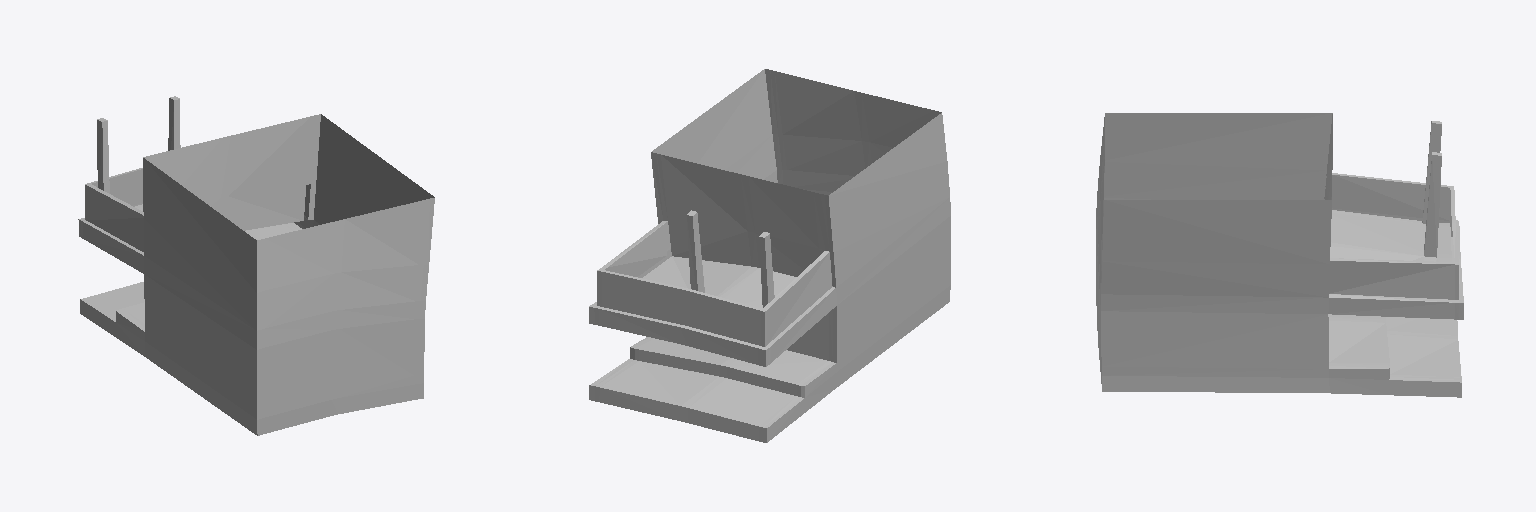
Rendered from immeuble 2.obj.
The picture shows the model from 3 angles: view 1: azimuth 30°, elevation 25°; view 2: azimuth 150°, elevation 25°; view 3: azimuth 270°, elevation 25°; orthographic projection.
Parts seen in each view (by area): view 1: immeuble_5; view 2: immeuble_5; view 3: immeuble_5.
Boxes of the visible parts, x1=… form: immeuble_5: x1=78, y1=96, x2=434, y2=435; immeuble_5: x1=589, y1=69, x2=950, y2=442; immeuble_5: x1=1096, y1=113, x2=1463, y2=397.
Size of the model in its own units: 29.87 by 31.72 by 52.25.